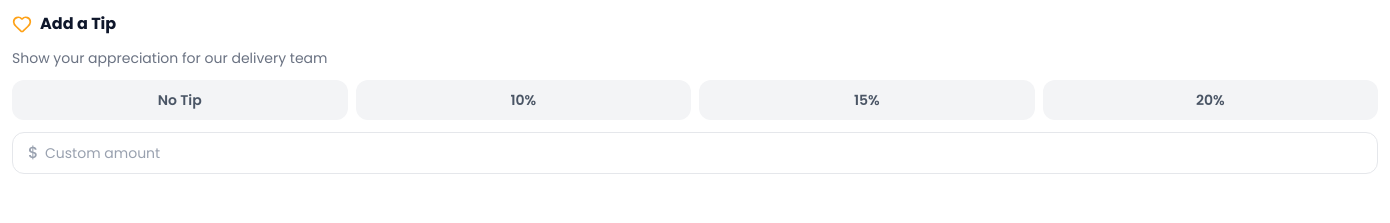
Test case: TipSelector › shows formatted 'Tip: $X.YY' when tip > 0
Click the button "15%" at x=867, y=100, box [699,80,1034,120]
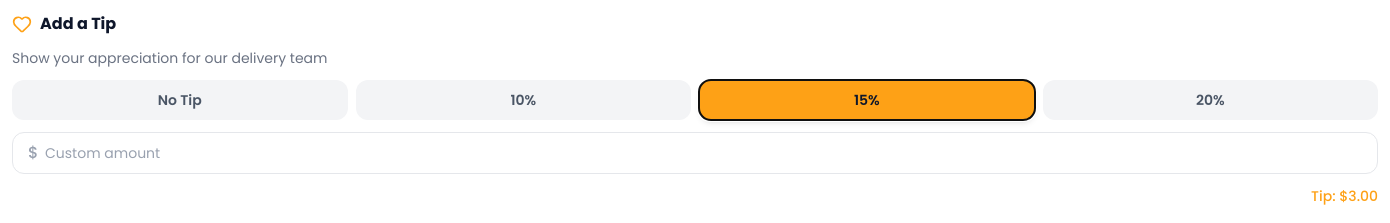
Check: the text "Tip: $3.00" is shown, box [1311,186,1378,206]
